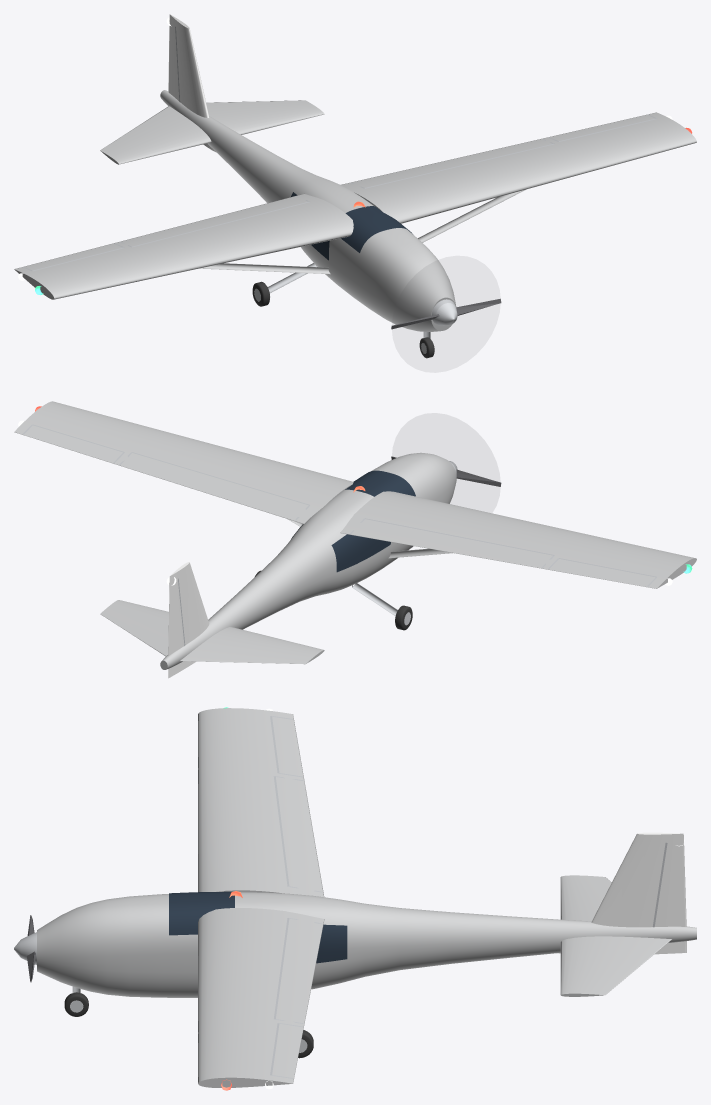
3 renders of one model, top to bottom at view 1: azimuth 30°, elevation 25°; view 2: azimuth 150°, elevation 25°; view 3: azimuth 270°, elevation 25°, orthographic. The views are drawn at different scales.
Visible parts, largest first — view 1: airframe; view 2: airframe; view 3: airframe.
Boxes of the visible parts, x1,y1,x2,y2 form: airframe: (14,14,696,358); airframe: (14,401,696,678); airframe: (14,707,696,1090).
Bounding box in the file's own units: 11.22 × 2.53 × 8.59.
